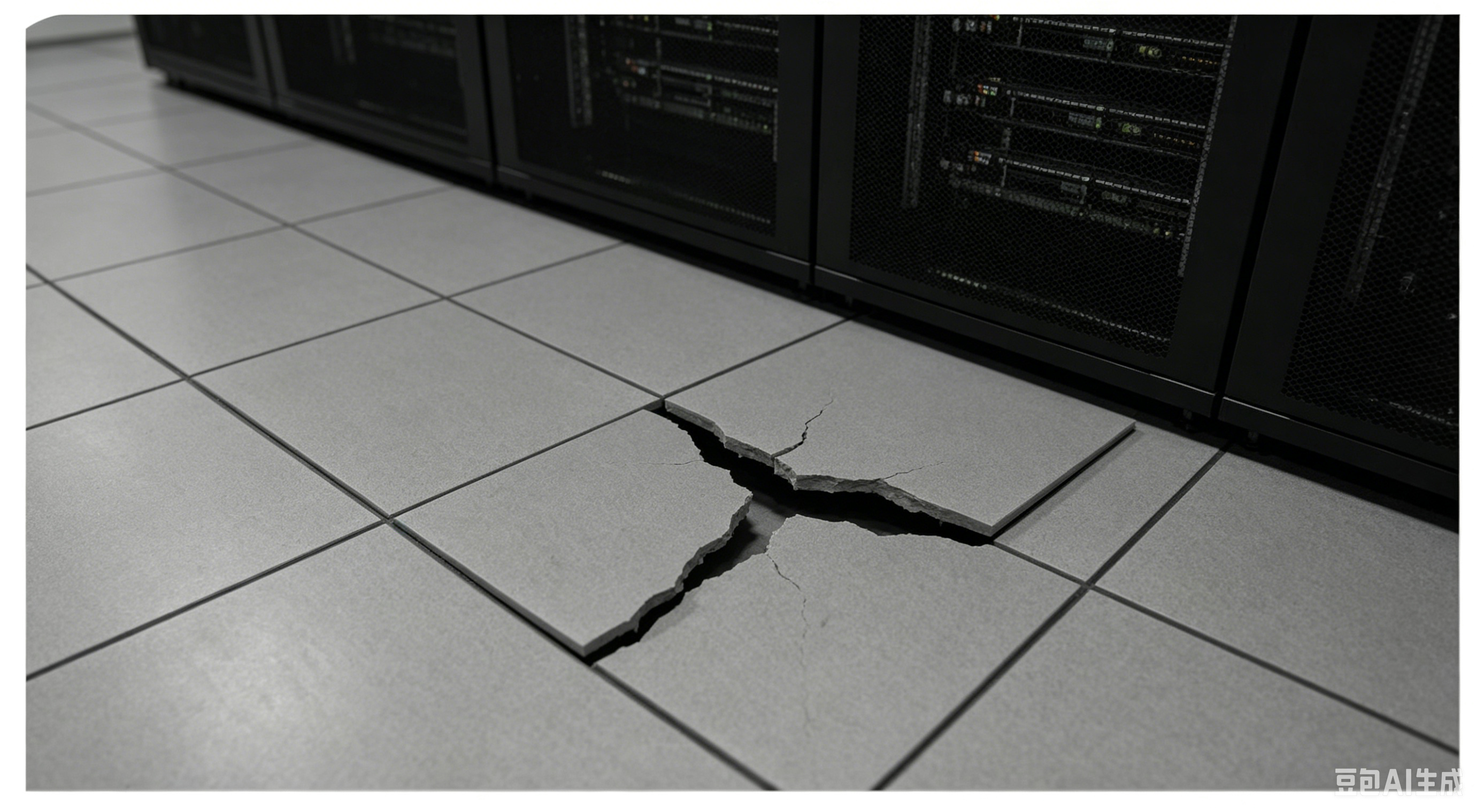floor_defect: (645, 390, 1007, 560), (565, 555, 737, 678), (1015, 410, 1141, 538)
